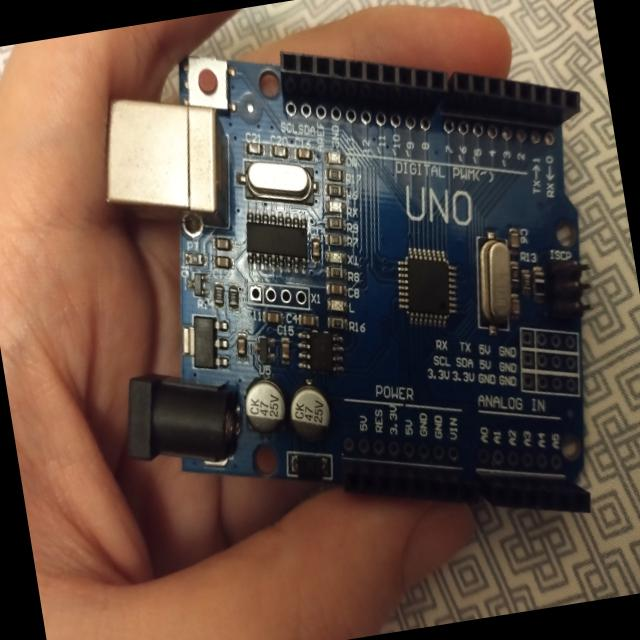arduino: (79, 0, 612, 590)
